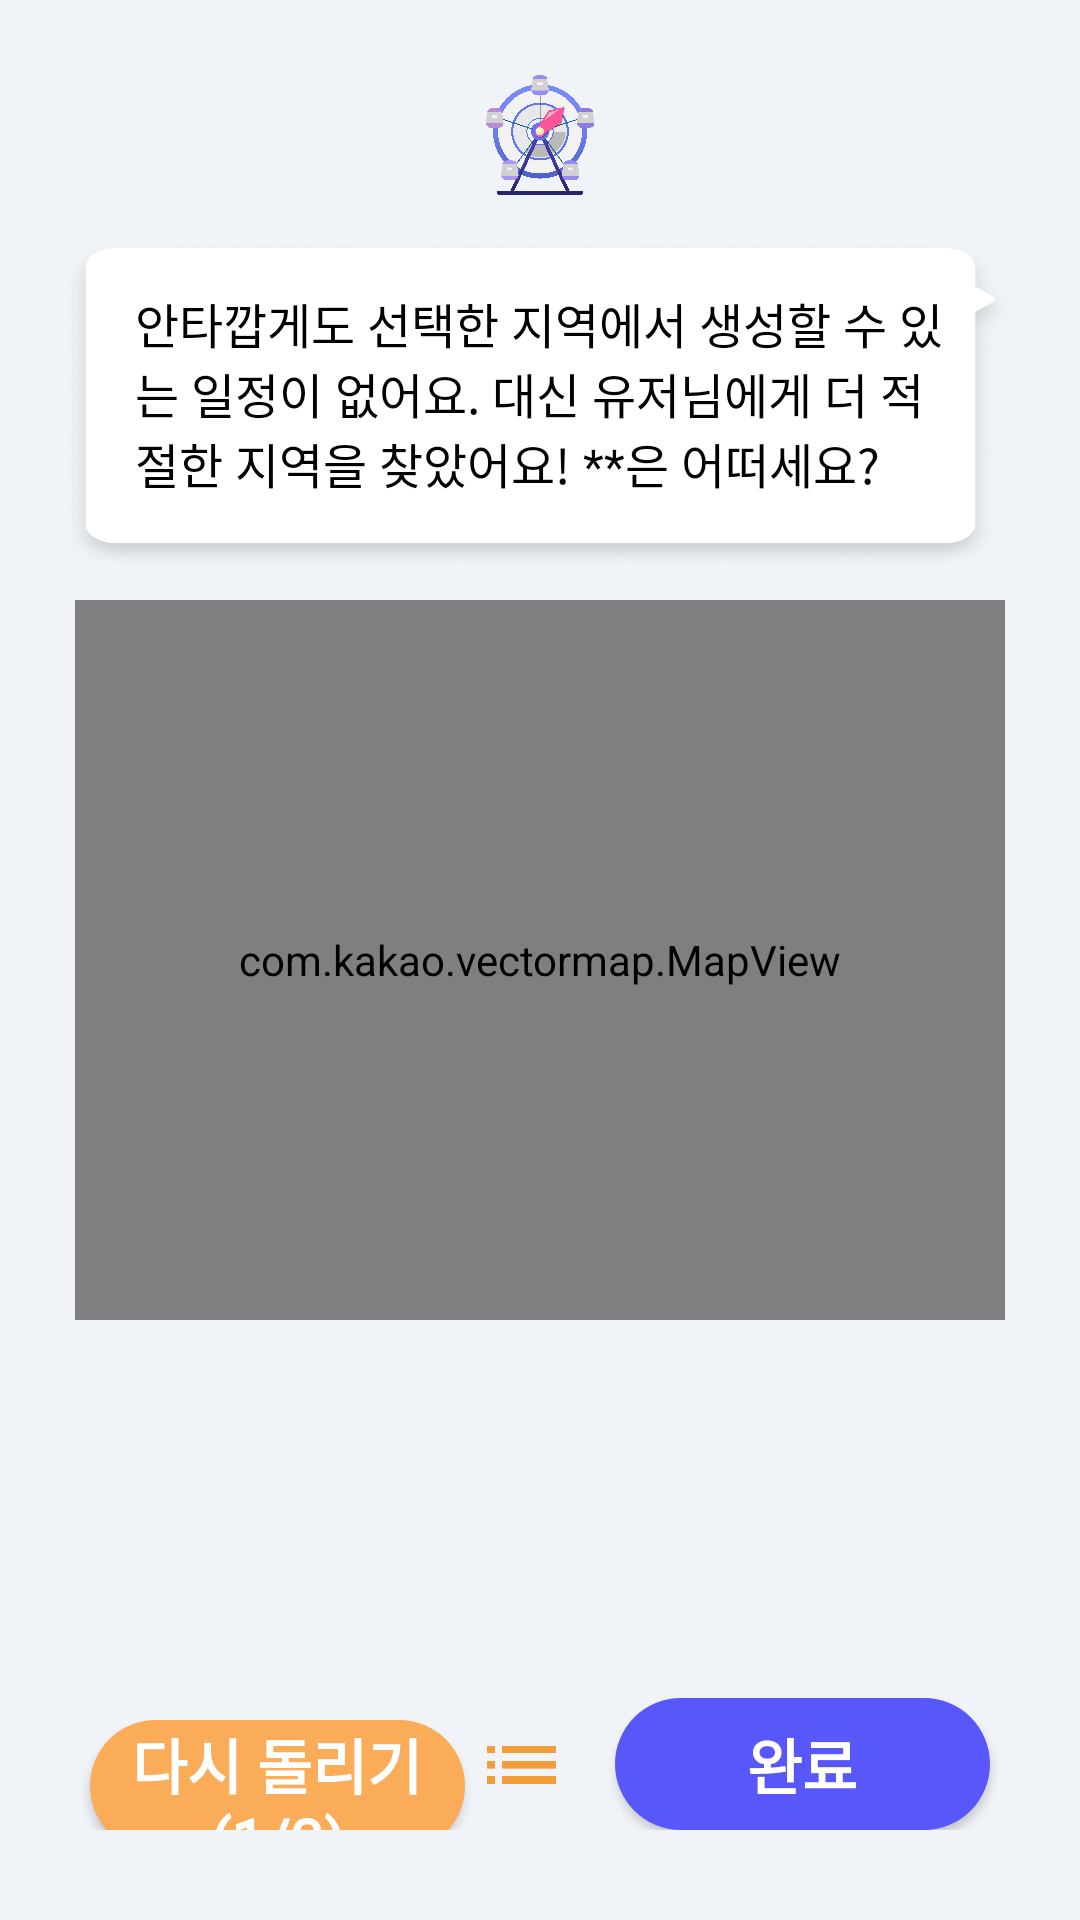

Where to tap for icons on this 1080px×1920px app screen, as (x=x, y=y):
list: (x=521, y=1765)
